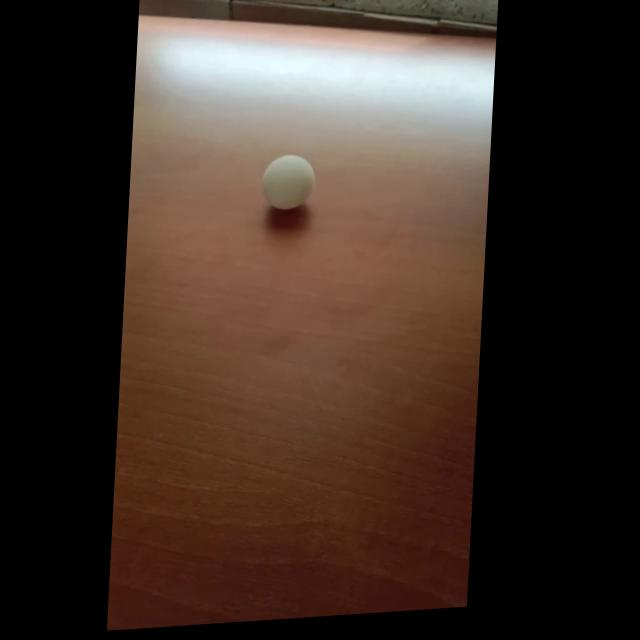white ball: (259, 152, 316, 212)
